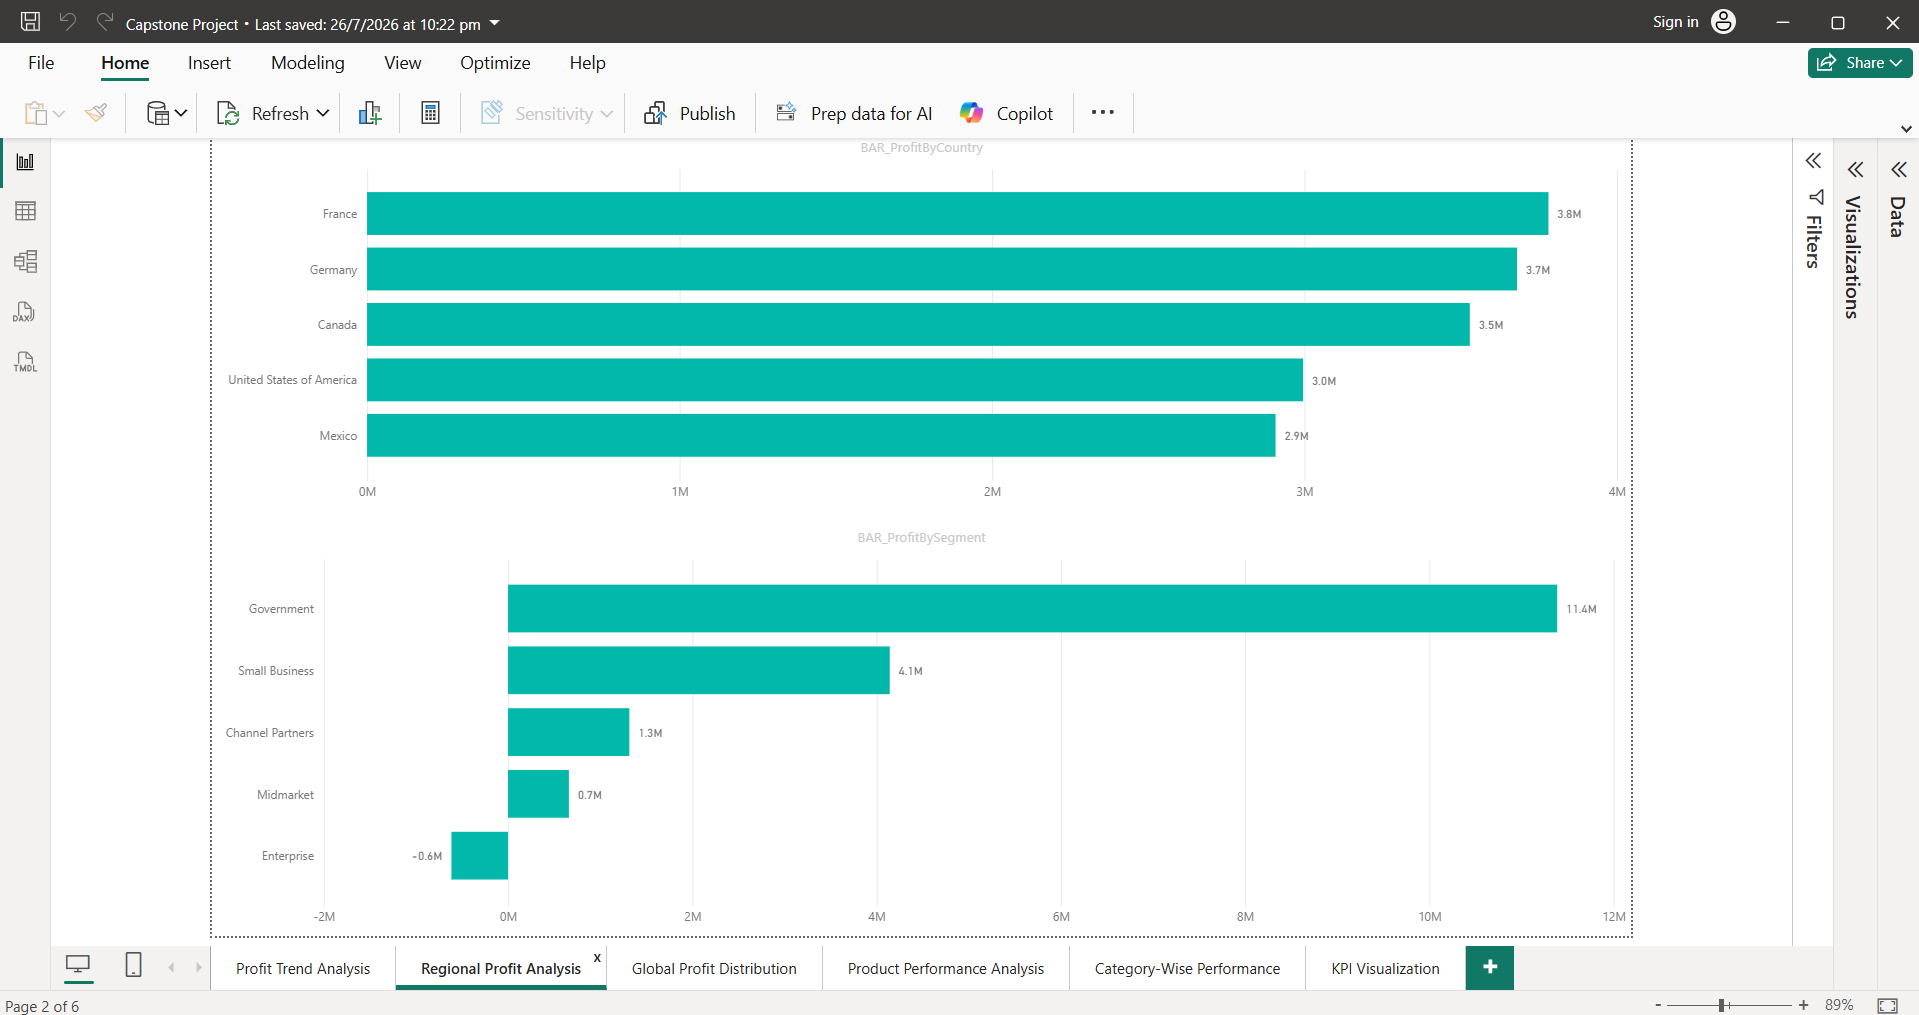

This screenshot's page, from the dashboard's own definition file:
{"tool":"powerbi","page":{"name":"Regional Profit Analysis","canvas":[1280,720],"ordinal":1},"visuals":[{"type":"clusteredBarChart","title":"BAR_ProfitByCountry","fields":{"Category":["Table_1.Country"],"Y":["_Measures.Total Profit"]},"box":[0,0,1280,336],"z":0},{"type":"clusteredBarChart","title":"BAR_ProfitBySegment","fields":{"Category":["Table_1.Segment"],"Y":["_Measures.Total Profit"]},"box":[0,352,1280,368],"z":1000}]}

Visuals, with their boxes on the page's 1280x720 design canvas (x1, y1, x2, y2). These are canvas units, not pixel positions in the 1919x1015 screenshot, which may show the page scaled, cropped or inside an application window:
"BAR_ProfitByCountry" clusteredBarChart: locate(0, 0, 1280, 336)
"BAR_ProfitBySegment" clusteredBarChart: locate(0, 352, 1280, 720)
